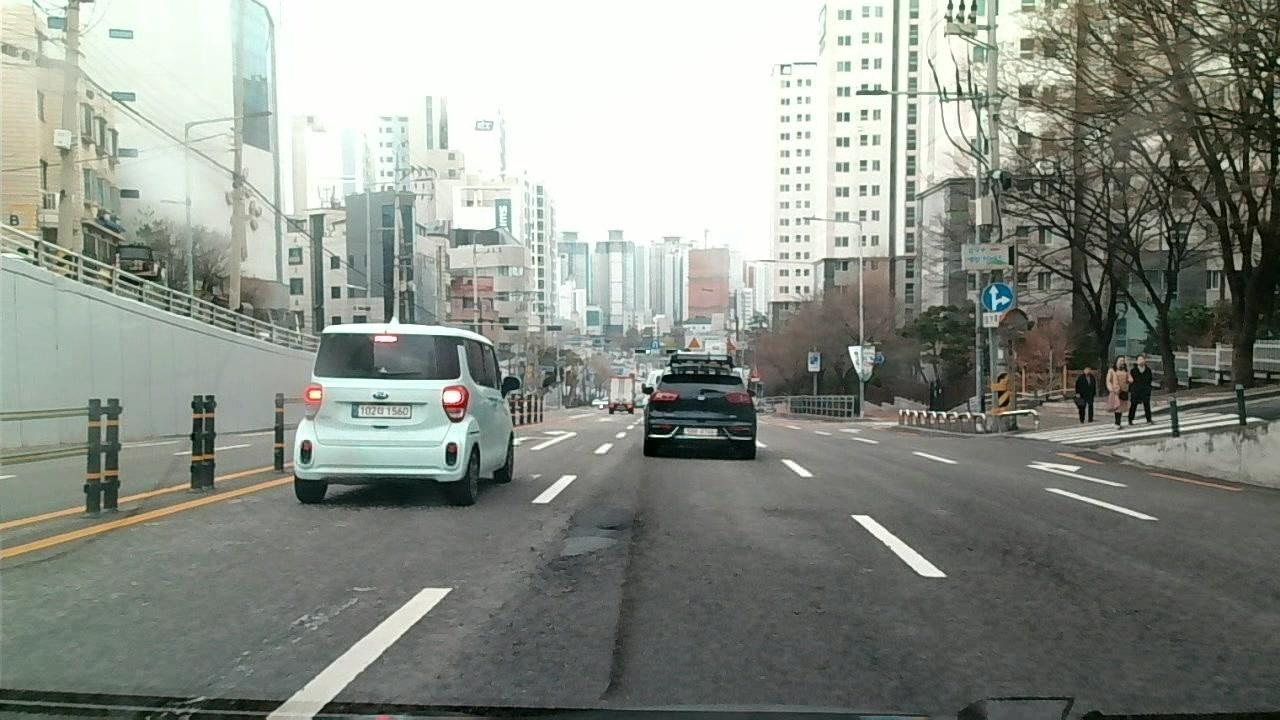vcrack: (603, 488, 646, 695), (536, 505, 584, 600)
